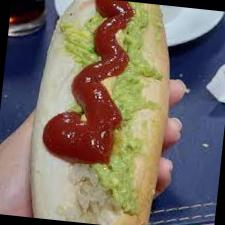Completos: (20, 0, 179, 225)
